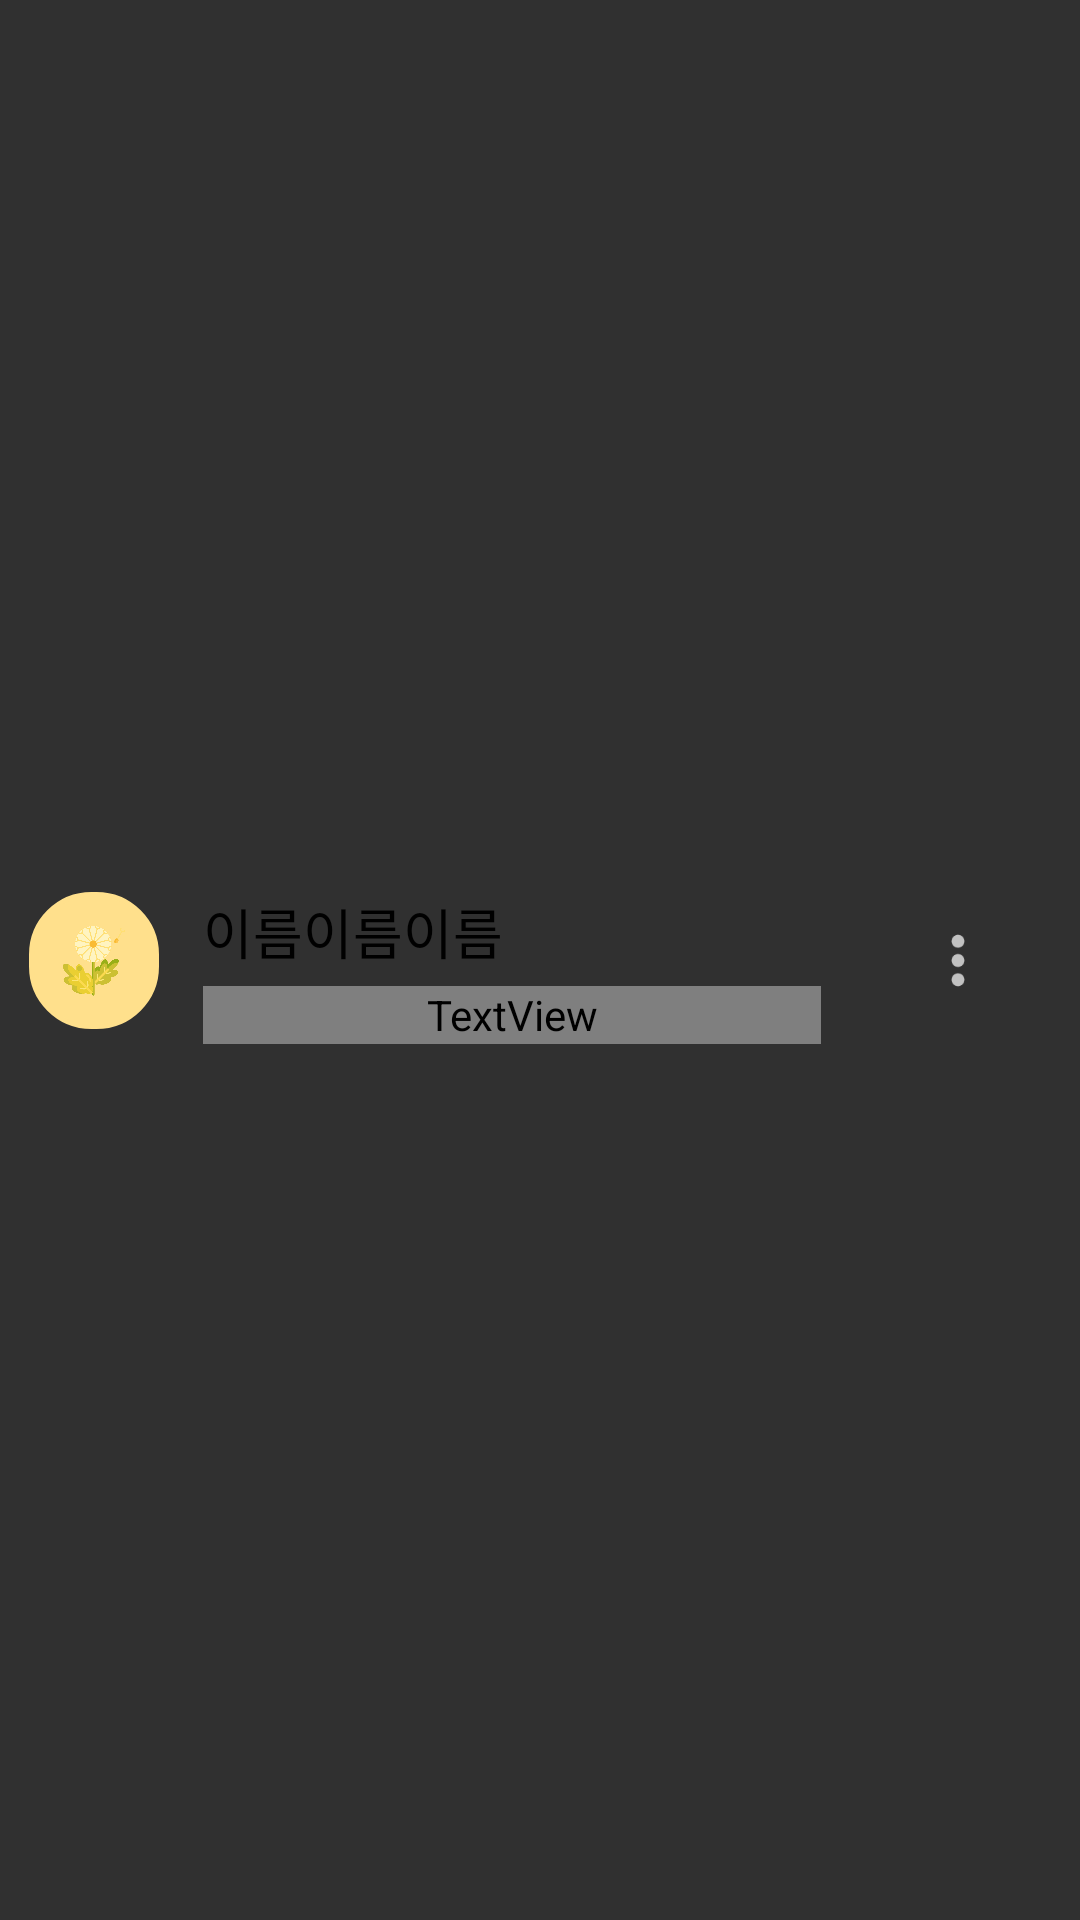

Icon bounding boxes for this 1080 x 1920 phone screenshot, format (x1, y1, x2, y2):
dandelion: (29, 892, 159, 1029)
option: (951, 934, 965, 987)
